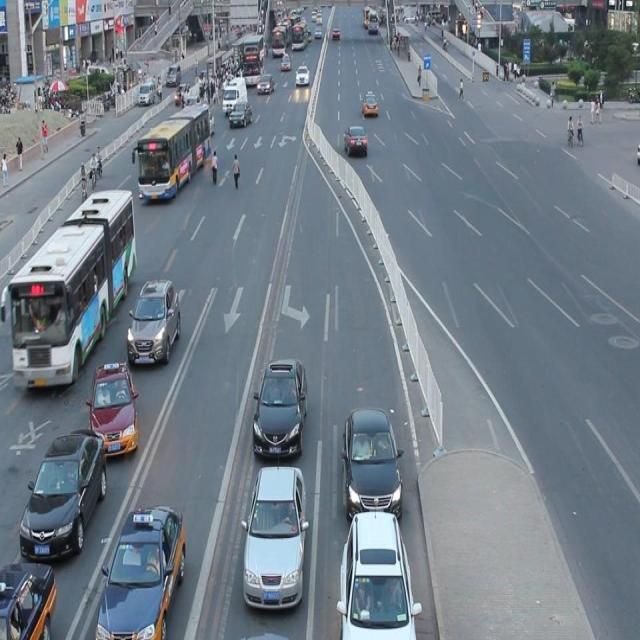car: (95, 499, 186, 640), (20, 425, 107, 560), (338, 506, 419, 640), (242, 460, 306, 606), (342, 401, 401, 518), (250, 353, 308, 458), (88, 357, 140, 456), (126, 276, 181, 365), (1, 557, 58, 640)
van: (12, 190, 133, 385), (138, 105, 210, 201)
